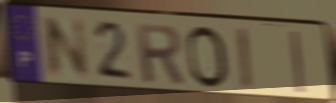2: (93, 18, 135, 86)
I: (233, 25, 255, 93), (288, 29, 307, 96)
N: (41, 15, 91, 81)
O: (184, 23, 232, 90)
R: (133, 21, 187, 86)
